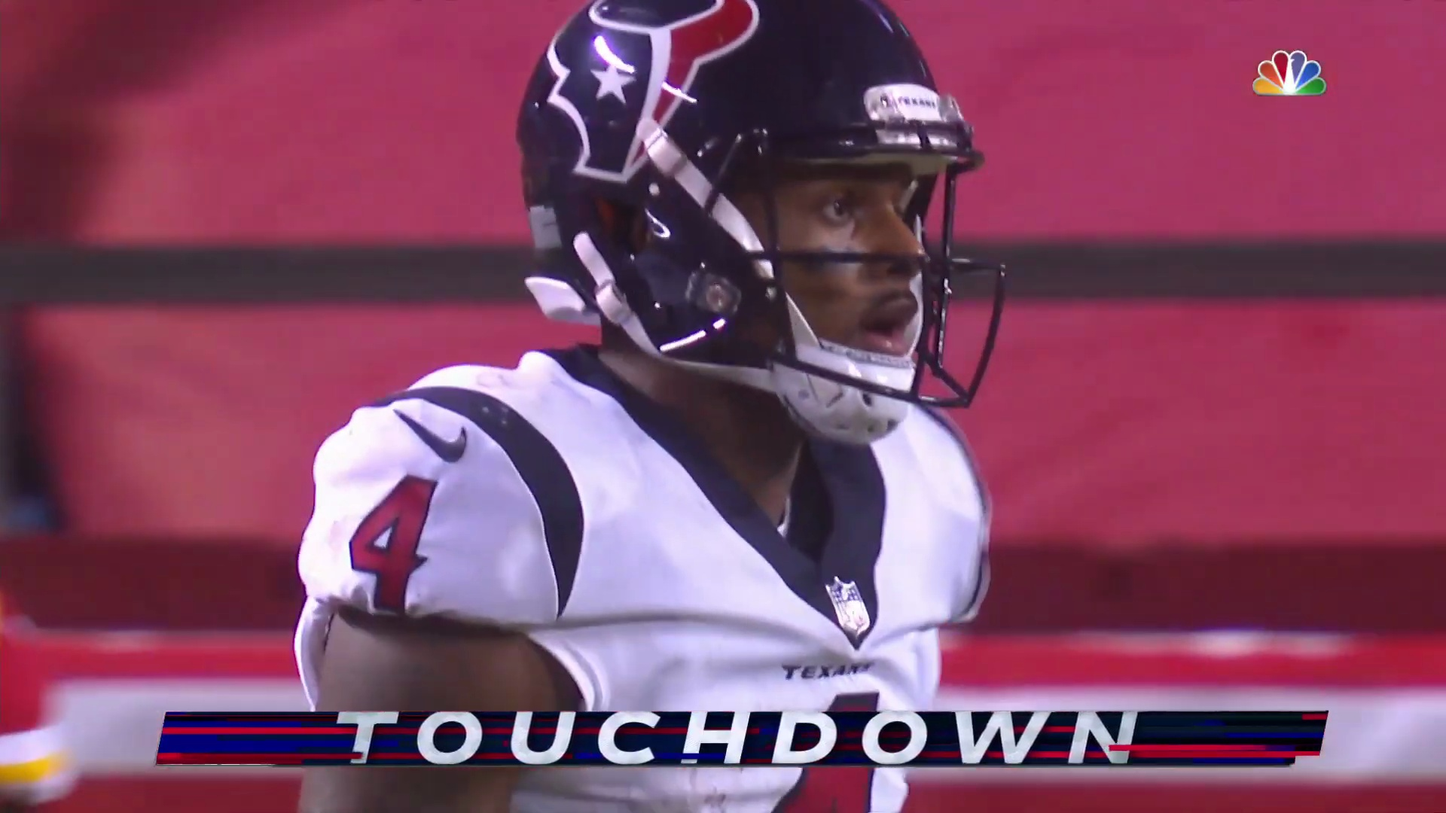Player: (376, 127, 911, 668)
